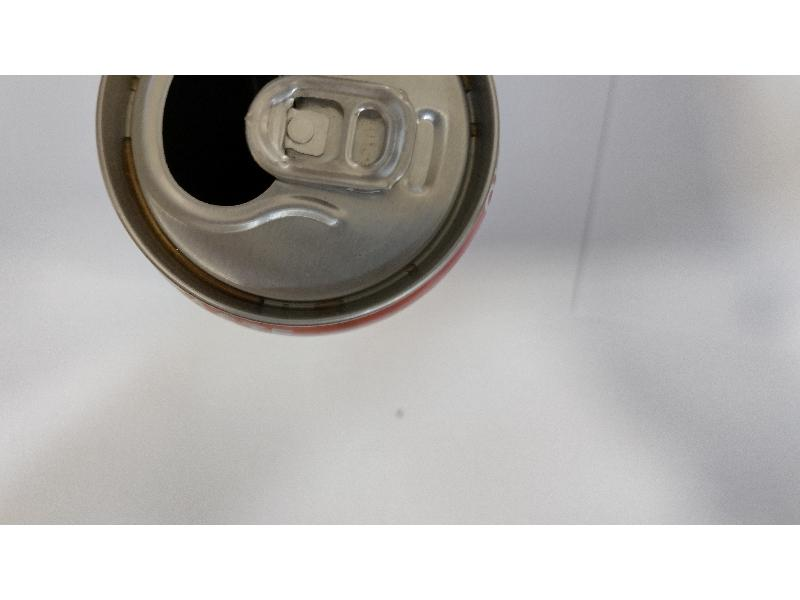can: (90, 73, 515, 344)
